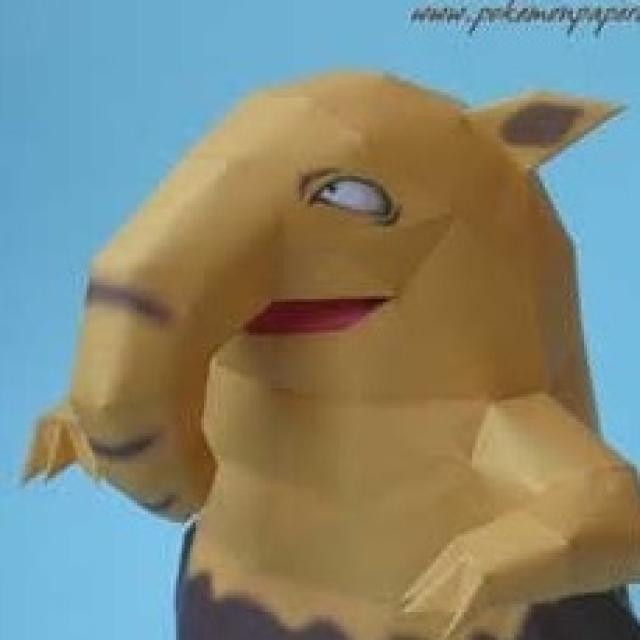Drowzee: (69, 67, 640, 640)
